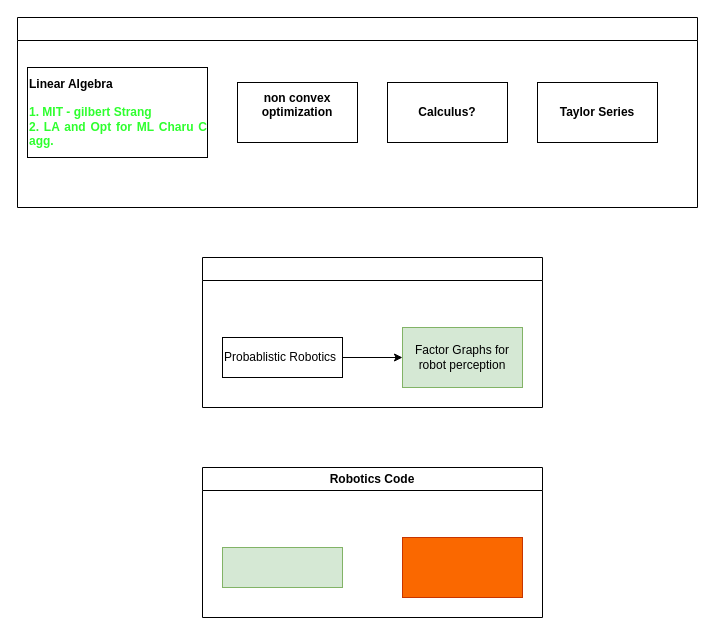
Some shapes in this 715 by 635 pixel diagram are drawn without their labels. Each missing label, with the box of its shape:
Get stack, and general project framework: (402, 536, 522, 598)
Misc Math: (16, 16, 698, 208)
Real time visual slam: (222, 546, 342, 588)
Robotics Theory: (202, 256, 542, 408)
